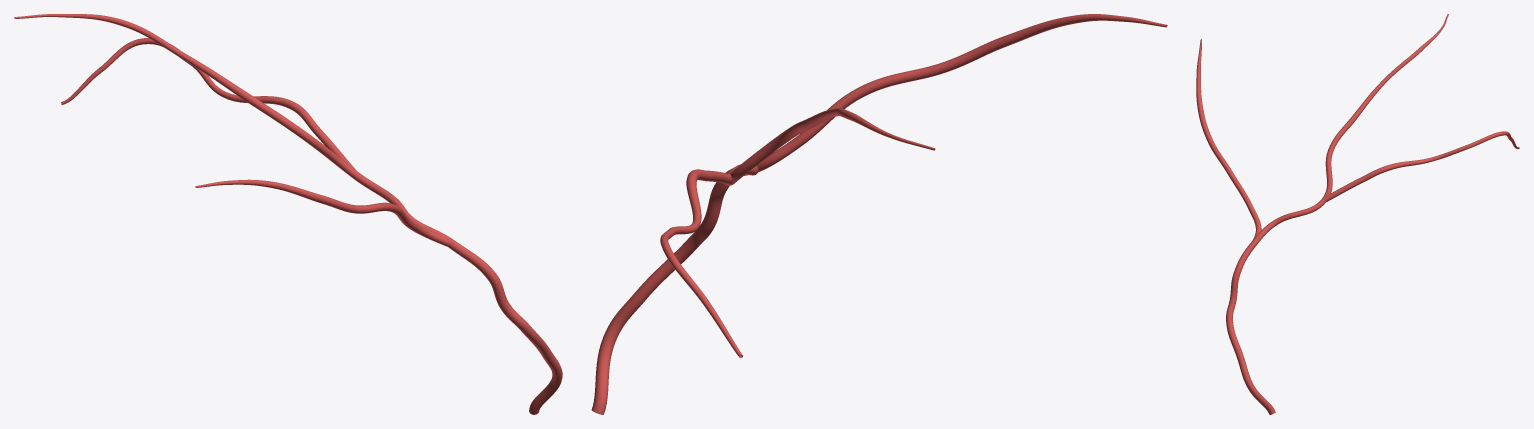
3 views of the same model, side by side, from view 1: azimuth 30°, elevation 25°; view 2: azimuth 150°, elevation 25°; view 3: azimuth 270°, elevation 25° (orthographic). The views are drawn at different scales.
Parts seen in each view (by area): view 1: 左侧颞枕支; view 2: 左侧颞枕支; view 3: 左侧颞枕支.
Boxes of the visible parts, bbox=[...] form: 左侧颞枕支: bbox=[14, 14, 562, 414]; 左侧颞枕支: bbox=[591, 14, 1167, 414]; 左侧颞枕支: bbox=[1196, 14, 1519, 414].
Size of the model in its own units: 0.066 by 0.0621 by 0.0672.
